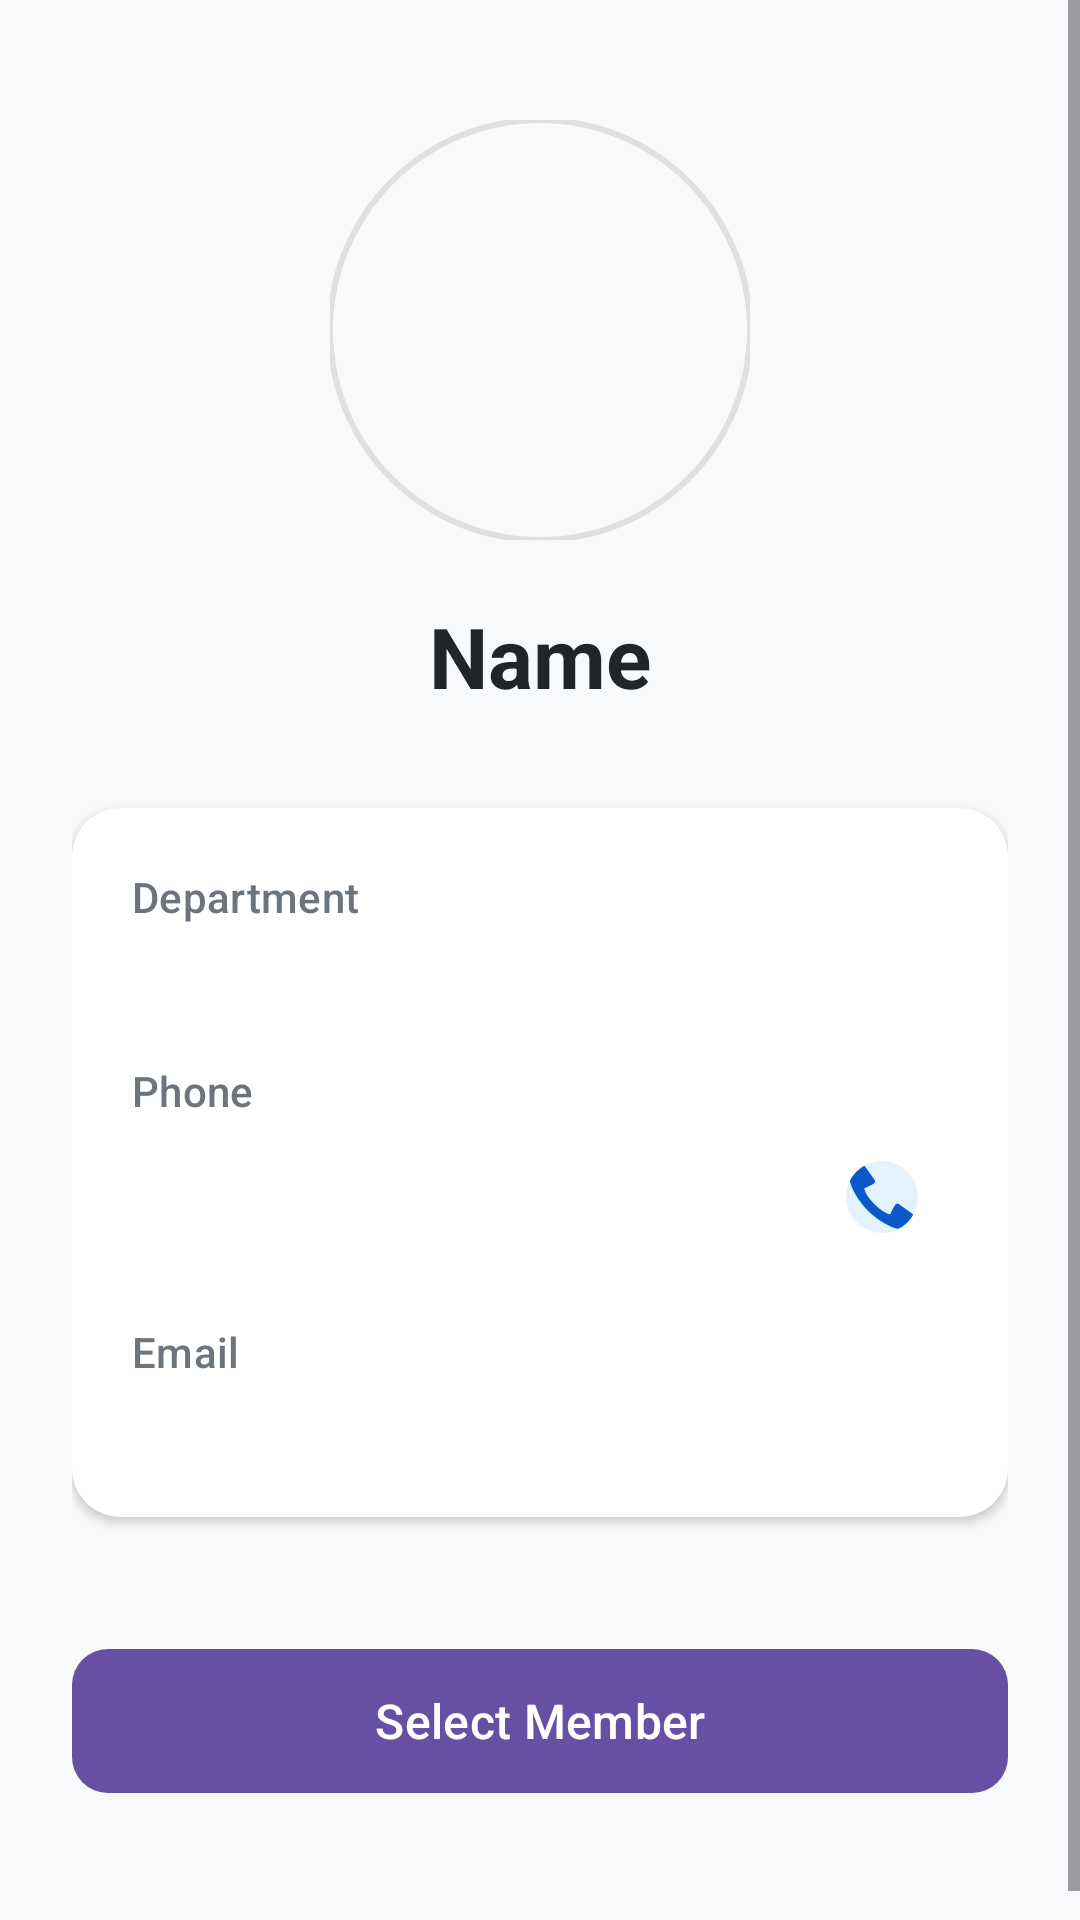

Screen size 1080*1920. Icon name, then its box in pixels as (x1, y1, x2, y2):
phone call: (846, 1161, 918, 1233)
